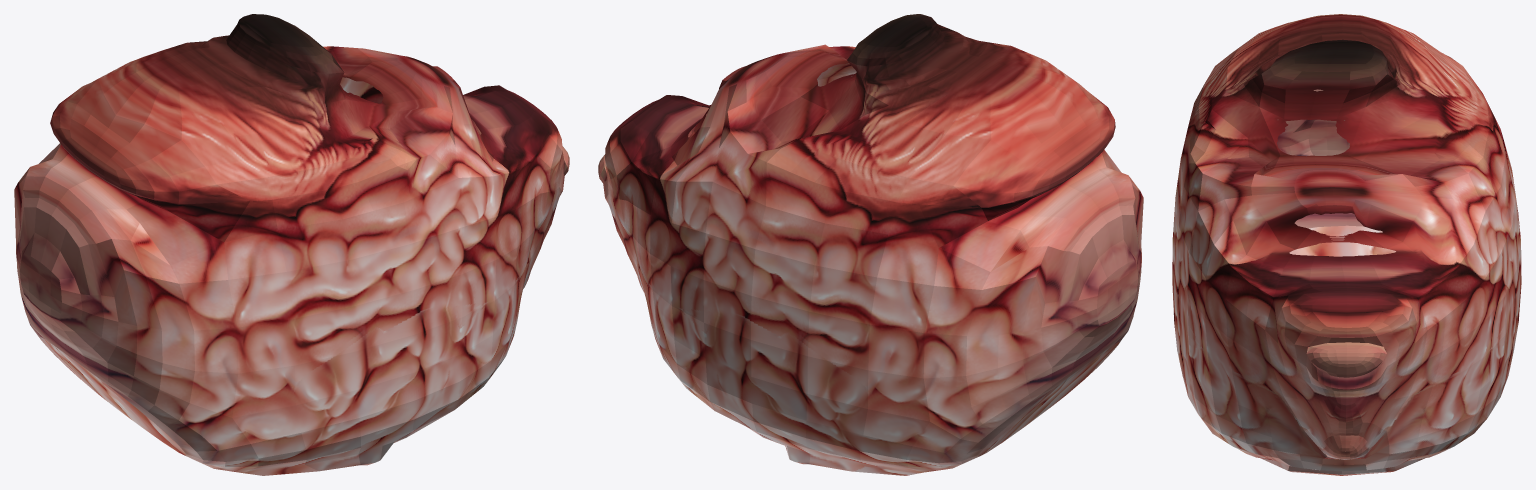
Rendered from AuthenticBrain.fbx.
3 renders of one model, left to right at view 1: azimuth 30°, elevation 25°; view 2: azimuth 150°, elevation 25°; view 3: azimuth 270°, elevation 25°, orthographic. The views are drawn at different scales.
Parts seen in each view (by area): view 1: Cube; view 2: Cube; view 3: Cube.
Part boxes in pixels (box(x1,y1,x2,y2)): Cube: box(14, 14, 569, 475); Cube: box(598, 14, 1143, 475); Cube: box(1172, 14, 1521, 475).
Size of the model in its own units: 0.1506 by 0.1154 by 0.0946.
